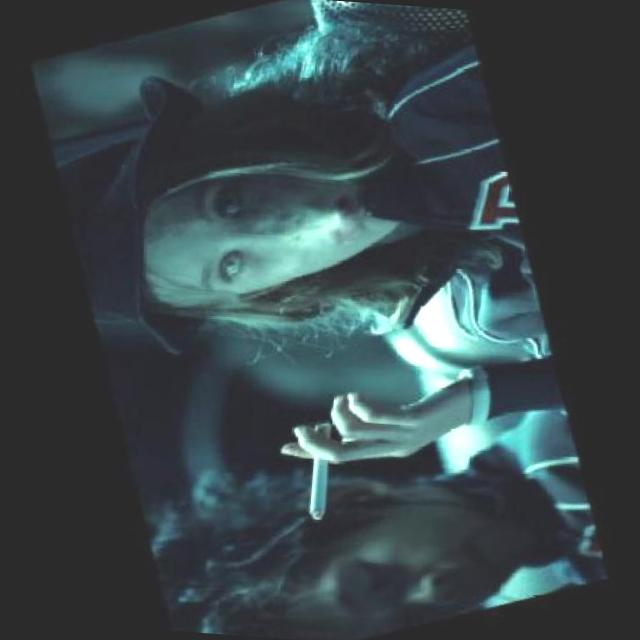smoke: (280, 416, 361, 526)
